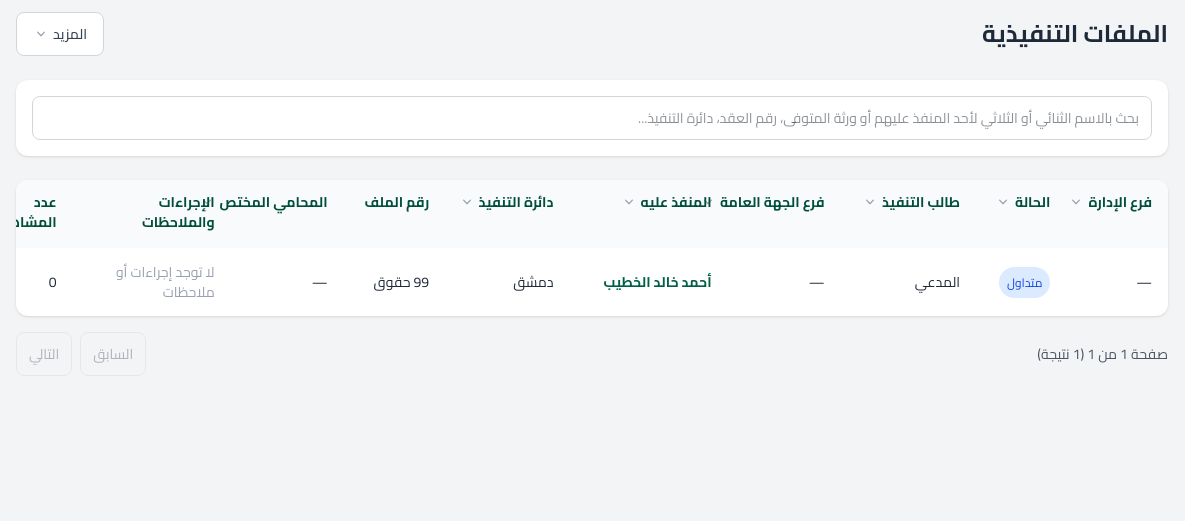
DocumentsList › يستبعد «منفذ» و«محال الى البداية» من فلتر الحالة (صفحتاهما مستقلتان)
This screenshot has width=1185, height=521.
What coordinates should you click on to do the following:
click the button with aria-label "فلترة الحالة"
I would click on:
 (1023, 214)
Its box is [995,192,1050,236].
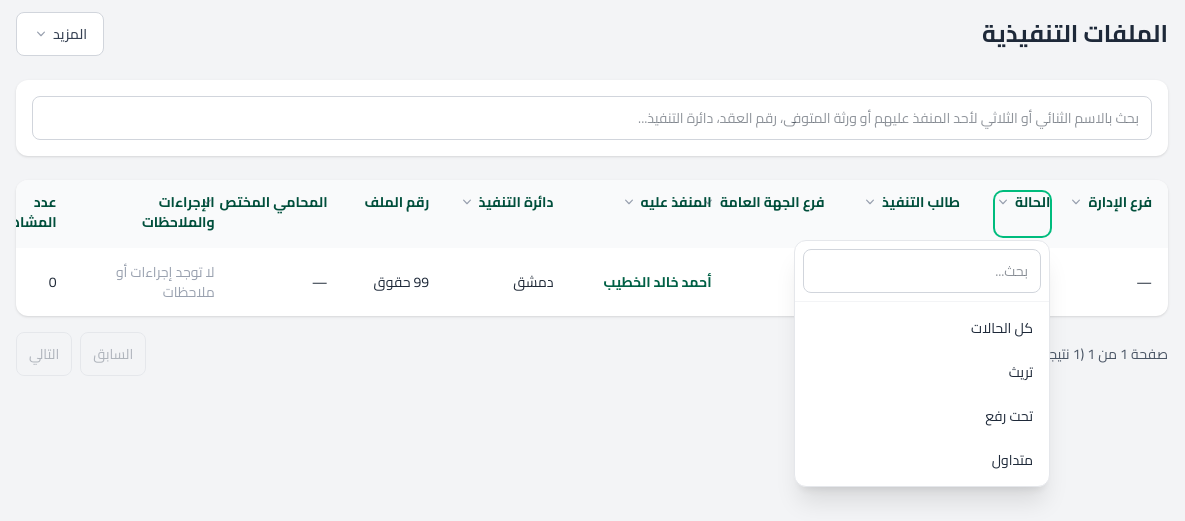
Check: the menu item "تريث" is shown, box [795,350,1049,394]
Check: the menu item "تحت رفع" is shown, box [795,394,1049,438]
Check: the menu item "متداول" is shown, box [795,438,1049,482]
